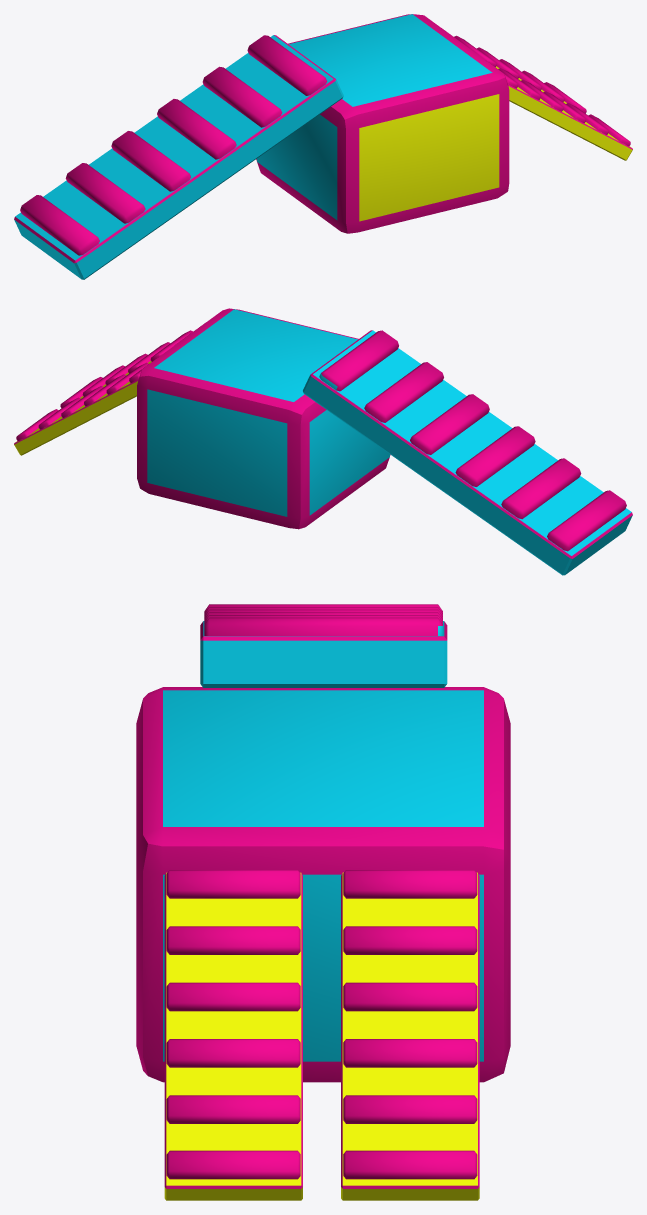
Rendered from RAMP.FBX.
3 views of the same model, one above another, from view 1: azimuth 30°, elevation 25°; view 2: azimuth 150°, elevation 25°; view 3: azimuth 270°, elevation 25° (orthographic). The views are drawn at different scales.
Parts seen in each view (by area): view 1: Box008, Box007, Box009, Box010; view 2: Box008, Box007, Box010, Box009; view 3: Box008, Box010, Box009, Box007.
Part boxes in pixels (x1,y1,x2,y2): Box008: (256,14,509,233); Box007: (14,35,343,279); Box009: (491,64,632,160); Box010: (450,34,586,113); Box008: (137,308,390,529); Box007: (303,330,632,575); Box010: (14,357,158,455); Box009: (60,323,204,408); Box008: (136,687,510,1082); Box010: (341,870,479,1200); Box009: (164,870,302,1200); Box007: (200,604,447,687).
Bounding box in the file's own units: 298 × 79.05 × 87.95.
